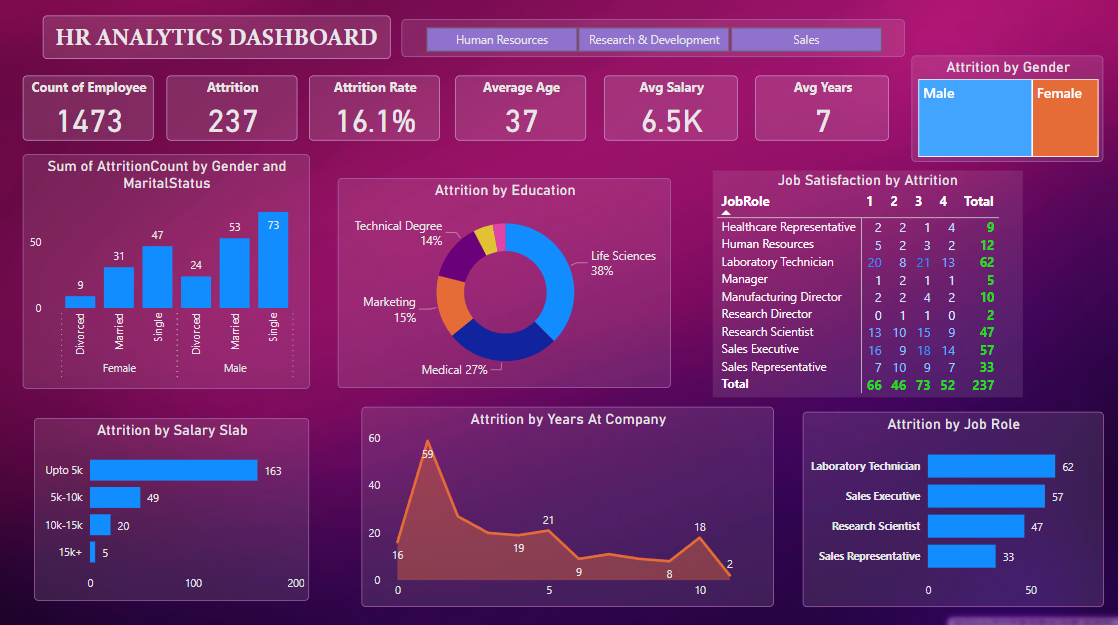

What the dashboard file says about the page in this screenshot:
{"tool":"powerbi","page":{"name":"Page 1","canvas":[1280,720],"ordinal":0},"visuals":[{"type":"card","title":"Count of Employee","fields":{"Values":["Sum(HR_Analytics.EmployeeCount)"]},"box":[26.5,89.2,149.5,74.8],"z":0},{"type":"textbox","box":[49.4,20.5,398,49.4],"z":1000},{"type":"card","title":"Attrition","fields":{"Values":["Sum(HR_Analytics.AttritionCount)"]},"box":[191.8,89.2,149.5,74.8],"z":2000},{"type":"card","title":"Attrition Rate","fields":{"Values":["HR_Analytics.Avg Attrition"]},"box":[354.6,89.2,149.5,74.8],"z":3000},{"type":"card","title":"Average Age","fields":{"Values":["Avg(HR_Analytics.Age)"]},"box":[521,89.2,149.5,74.8],"z":4000},{"type":"card","title":"Avg Salary","fields":{"Values":["Avg(HR_Analytics.MonthlyIncome)"]},"box":[691.1,89.2,153.2,74.8],"z":5000},{"type":"card","title":"Avg Years","fields":{"Values":["Avg(HR_Analytics.YearsAtCompany)"]},"box":[864.7,89.2,153.2,74.8],"z":6000},{"type":"donutChart","title":"Attrition by Education","fields":{"Category":["HR_Analytics.EducationField"],"Y":["Sum(HR_Analytics.AttritionCount)"]},"box":[387.1,206.2,381.1,240],"z":7000},{"type":"treemap","title":"Attrition by Gender","fields":{"Group":["HR_Analytics.Gender"],"Values":["Sum(HR_Analytics.AttritionCount)"]},"box":[1043.2,65.1,219.5,121.8],"z":9000},{"type":"barChart","title":"Attrition by Salary Slab","fields":{"Category":["HR_Analytics.SalarySlab"],"Y":["Sum(HR_Analytics.AttritionCount)"]},"box":[39.8,480,314.8,208.6],"z":10000},{"type":"pivotTable","title":"Job Satisfaction by Attrition","fields":{"Values":["Sum(HR_Analytics.AttritionCount)"],"Rows":["HR_Analytics.JobRole"],"Columns":["HR_Analytics.JobSatisfaction"]},"box":[815.3,197.8,354.6,259.3],"z":11000},{"type":"barChart","title":"Attrition by Job Role","fields":{"Category":["HR_Analytics.JobRole"],"Y":["Sum(HR_Analytics.AttritionCount)"]},"box":[919,472.8,343.7,223.1],"z":12000},{"type":"areaChart","title":"Attrition by Years At Company","fields":{"Y":["Sum(HR_Analytics.AttritionCount)"],"Category":["HR_Analytics.YearsAtCompany"]},"box":[413.7,466.7,471.6,229.1],"z":13000},{"type":"slicer","fields":{"Values":["HR_Analytics.Department"]},"box":[459.5,24.1,575.3,43.4],"z":14000},{"type":"columnChart","fields":{"Category":["HR_Analytics.Gender","HR_Analytics.MaritalStatus"],"Y":["Sum(HR_Analytics.AttritionCount)"]},"box":[26.5,178.5,328,267.7],"z":15000}]}

Visuals, with their boxes in screenshot pixels (x1, y1, x2, y2), scaled from the page's 1280x720 canvas onto the 1118x625 screenshot:
"Count of Employee" card: 23/77/154/142
textbox: 43/18/391/61
"Attrition" card: 168/77/298/142
"Attrition Rate" card: 310/77/440/142
"Average Age" card: 455/77/586/142
"Avg Salary" card: 604/77/737/142
"Avg Years" card: 755/77/889/142
"Attrition by Education" donutChart: 338/179/671/387
"Attrition by Gender" treemap: 911/57/1103/162
"Attrition by Salary Slab" barChart: 35/417/310/598
"Job Satisfaction by Attrition" pivotTable: 712/172/1022/397
"Attrition by Job Role" barChart: 803/410/1103/604
"Attrition by Years At Company" areaChart: 361/405/773/604
slicer - HR_Analytics.Department: 401/21/904/59
columnChart - HR_Analytics.Gender x HR_Analytics.MaritalStatus: 23/155/310/387
